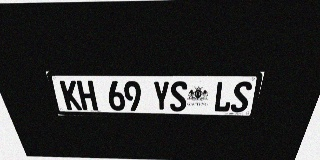6: (106, 81, 126, 111)
9: (123, 81, 142, 111)
H: (76, 81, 98, 110)
K: (59, 81, 82, 110)
L: (213, 81, 234, 112)
S: (230, 81, 253, 112), (170, 81, 188, 111)
Y: (152, 81, 170, 111)
